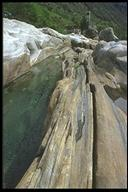rock: (9, 23, 126, 82)
water: (3, 53, 68, 187)
